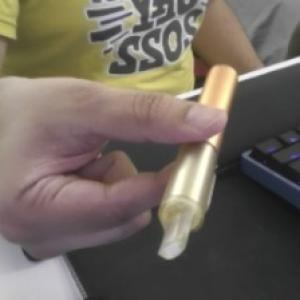Golden-E-Ciggirate: (156, 64, 239, 260)
